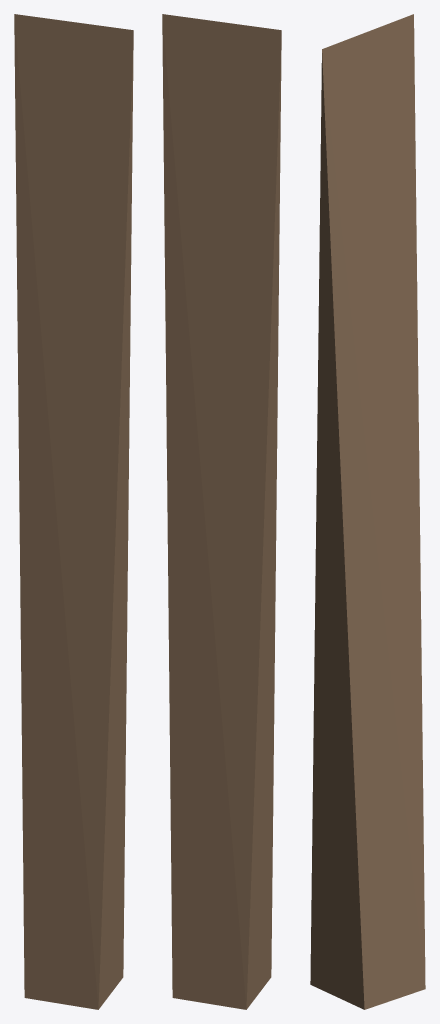
File: harbor.piling.lod2.glb
3 renders of one model, left to right at view 1: azimuth 30°, elevation 25°; view 2: azimuth 210°, elevation 25°; view 3: azimuth 270°, elevation 25°, orthographic.
Parts seen in each view (by area): view 1: Piling; view 2: Piling; view 3: Piling.
Part boxes in pixels (left/top/right/bottom): Piling: left=14, top=14, right=133, bottom=1009; Piling: left=162, top=14, right=281, bottom=1009; Piling: left=310, top=14, right=425, bottom=1009.
Size of the model in its own units: 0.4135 by 4 by 0.4367.
